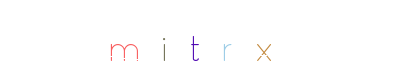I: (135, 0, 215, 80)
M: (124, 0, 204, 80)
R: (162, 0, 242, 80)
T: (154, 0, 234, 80)
X: (163, 0, 243, 80)
